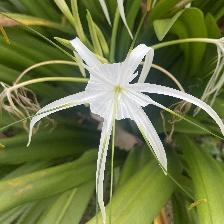spider lily: (72, 40, 170, 143)
